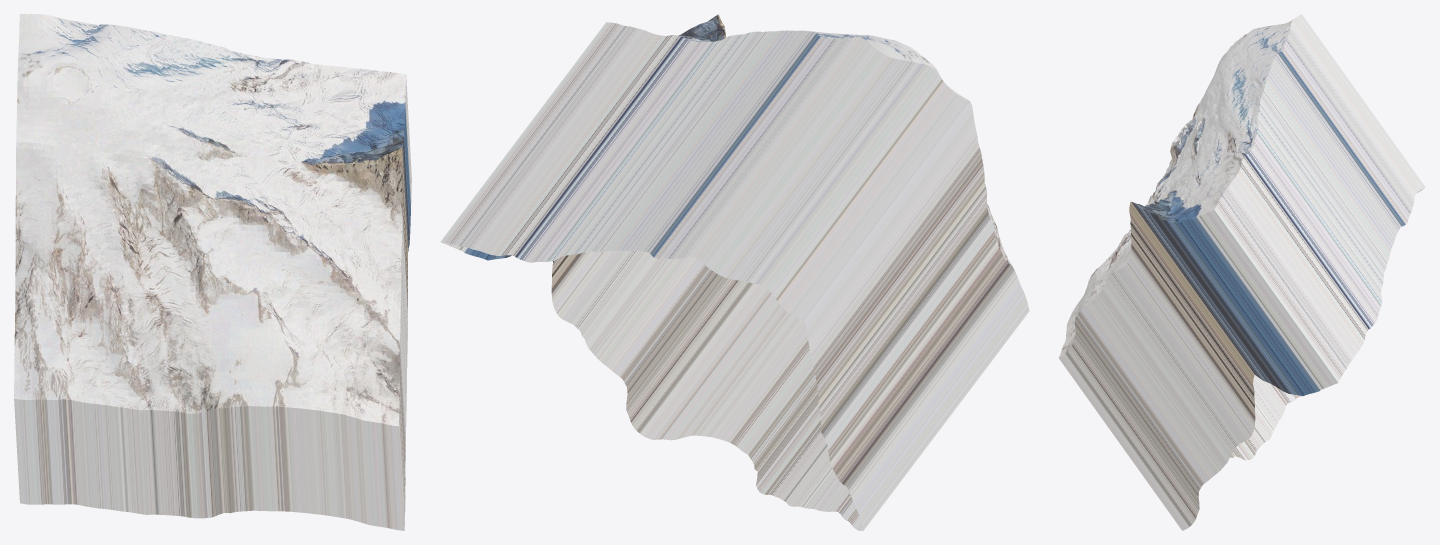
3 renders of one model, left to right at view 1: azimuth 30°, elevation 25°; view 2: azimuth 150°, elevation 25°; view 3: azimuth 270°, elevation 25°, orthographic. The views are drawn at different scales.
Size of the model in its own units: 6151 by 6283 by 5173.
Materials: 1 (1 with a texture image).
